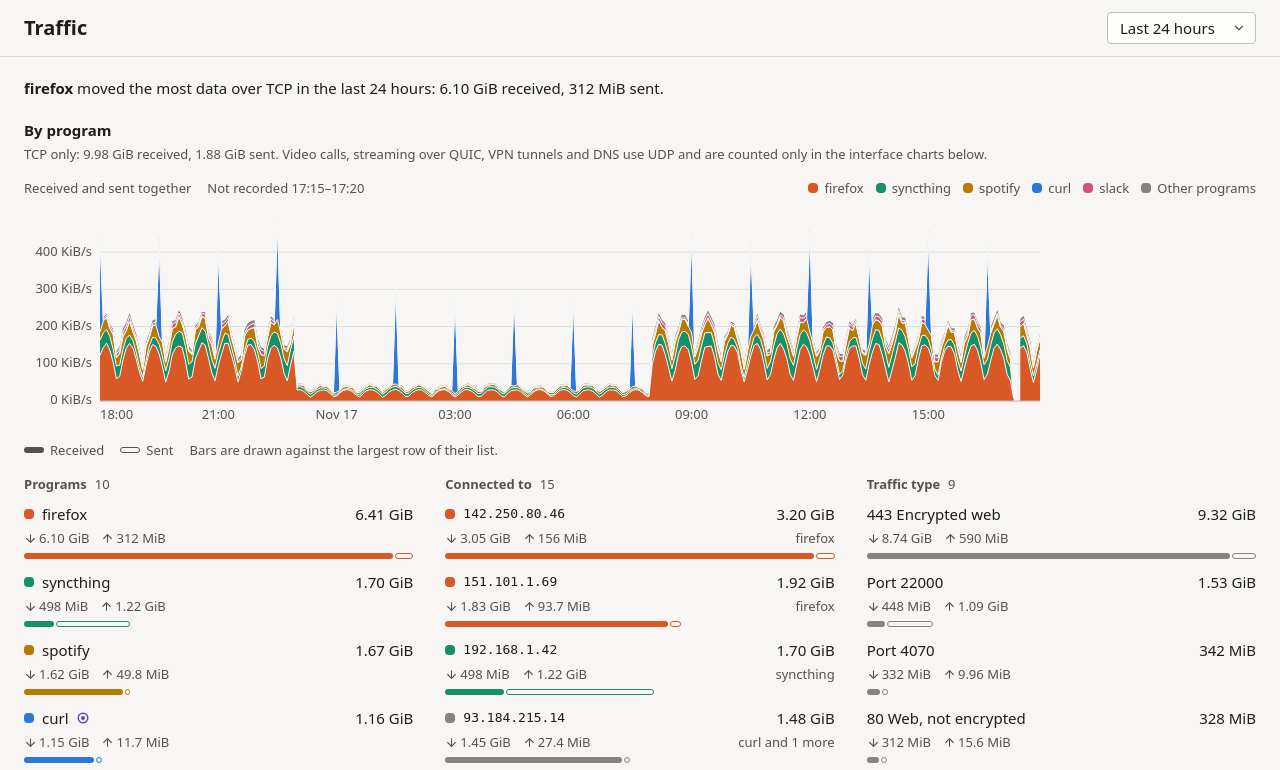
Test case: Traffic › opens a program to the addresses and traffic types behind its figure
Click the button "spotify 1.67 GiB 1.62 GiB 49.8 MiB" at (66, 650), box [16,633,421,701]
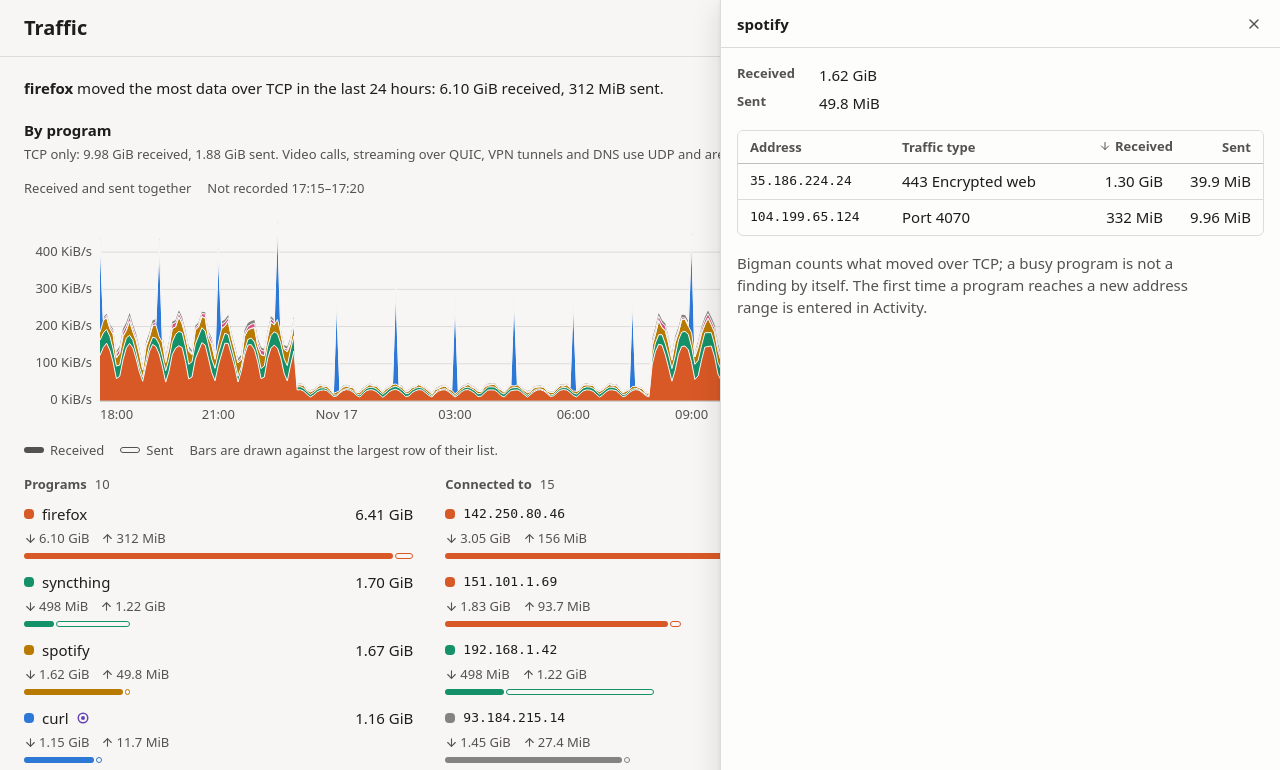
Expected: the text "35.186.224.24" is shown, [738,163,890,199]
Expected: the text "Port 4070" is shown, [890,199,1087,235]
Expected: the text "443 Encrypted web" is shown, [890,163,1087,199]
